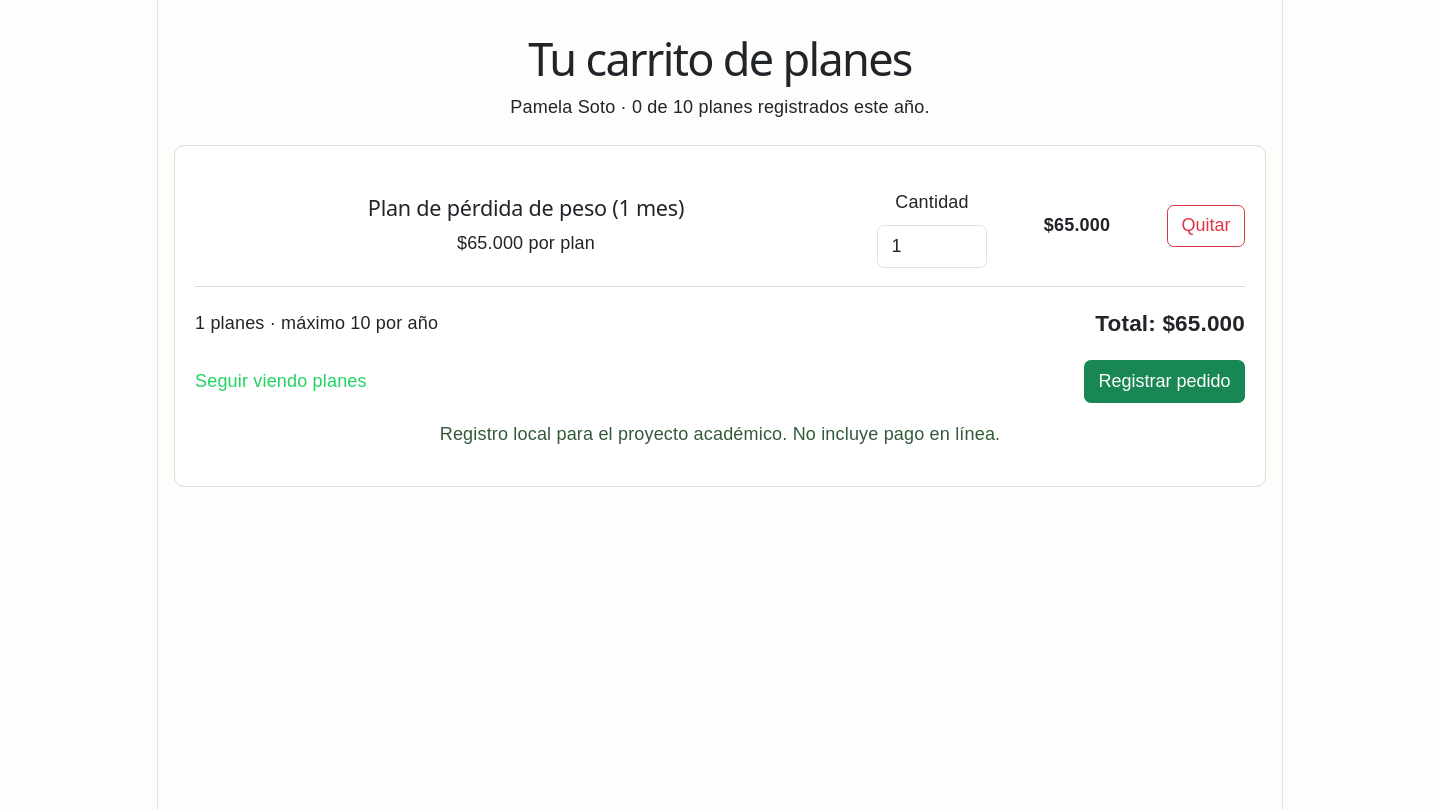
Test: Pruebas unitarias del carrito NutriVida › 7. Muestra error cuando se supera el límite anual
Replace the text in the number field labelled "Cantidad" with "11" at [932, 246], box [877,225,987,268]
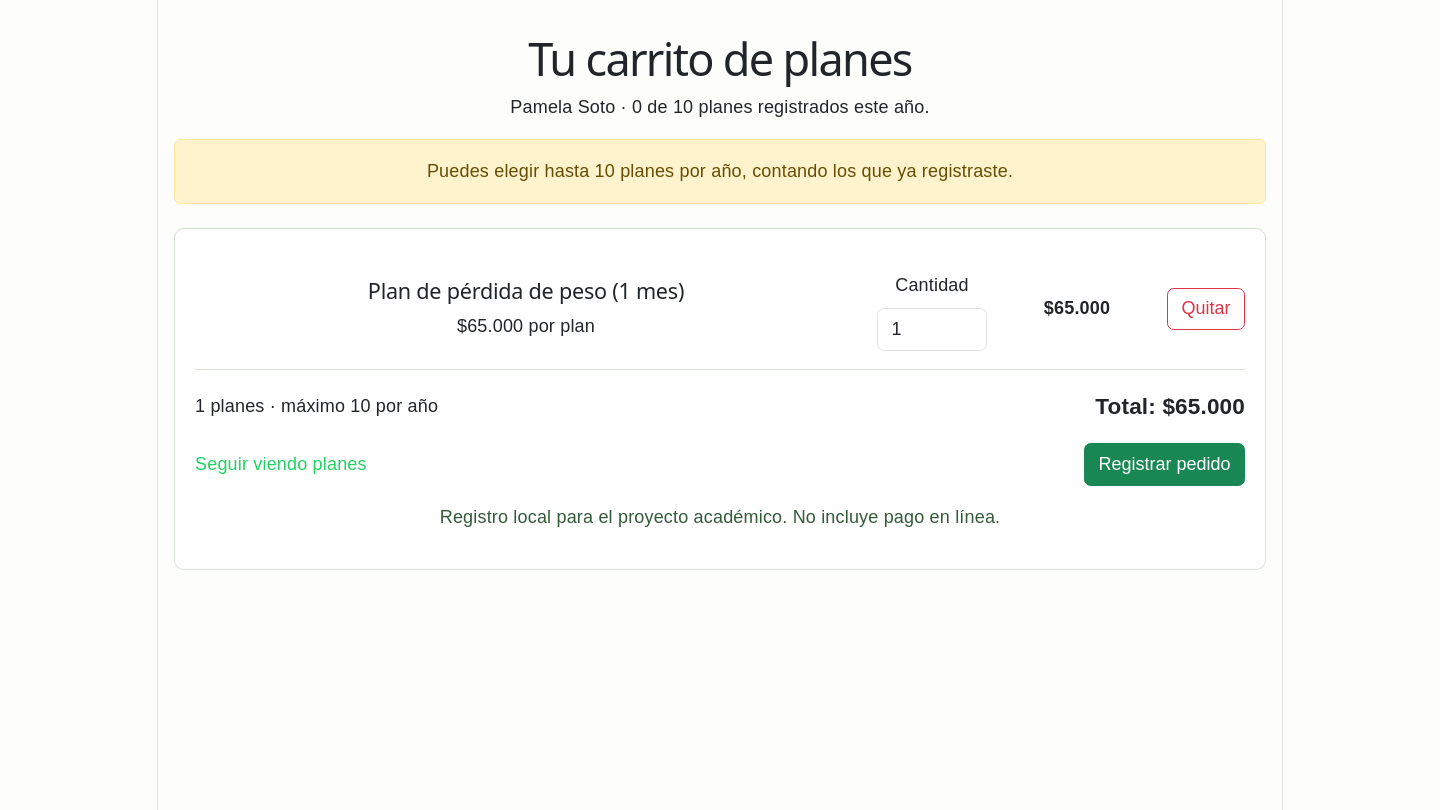
Expected: the message shows "Puedes elegir hasta 10 planes por año", [427,161,1013,181]
